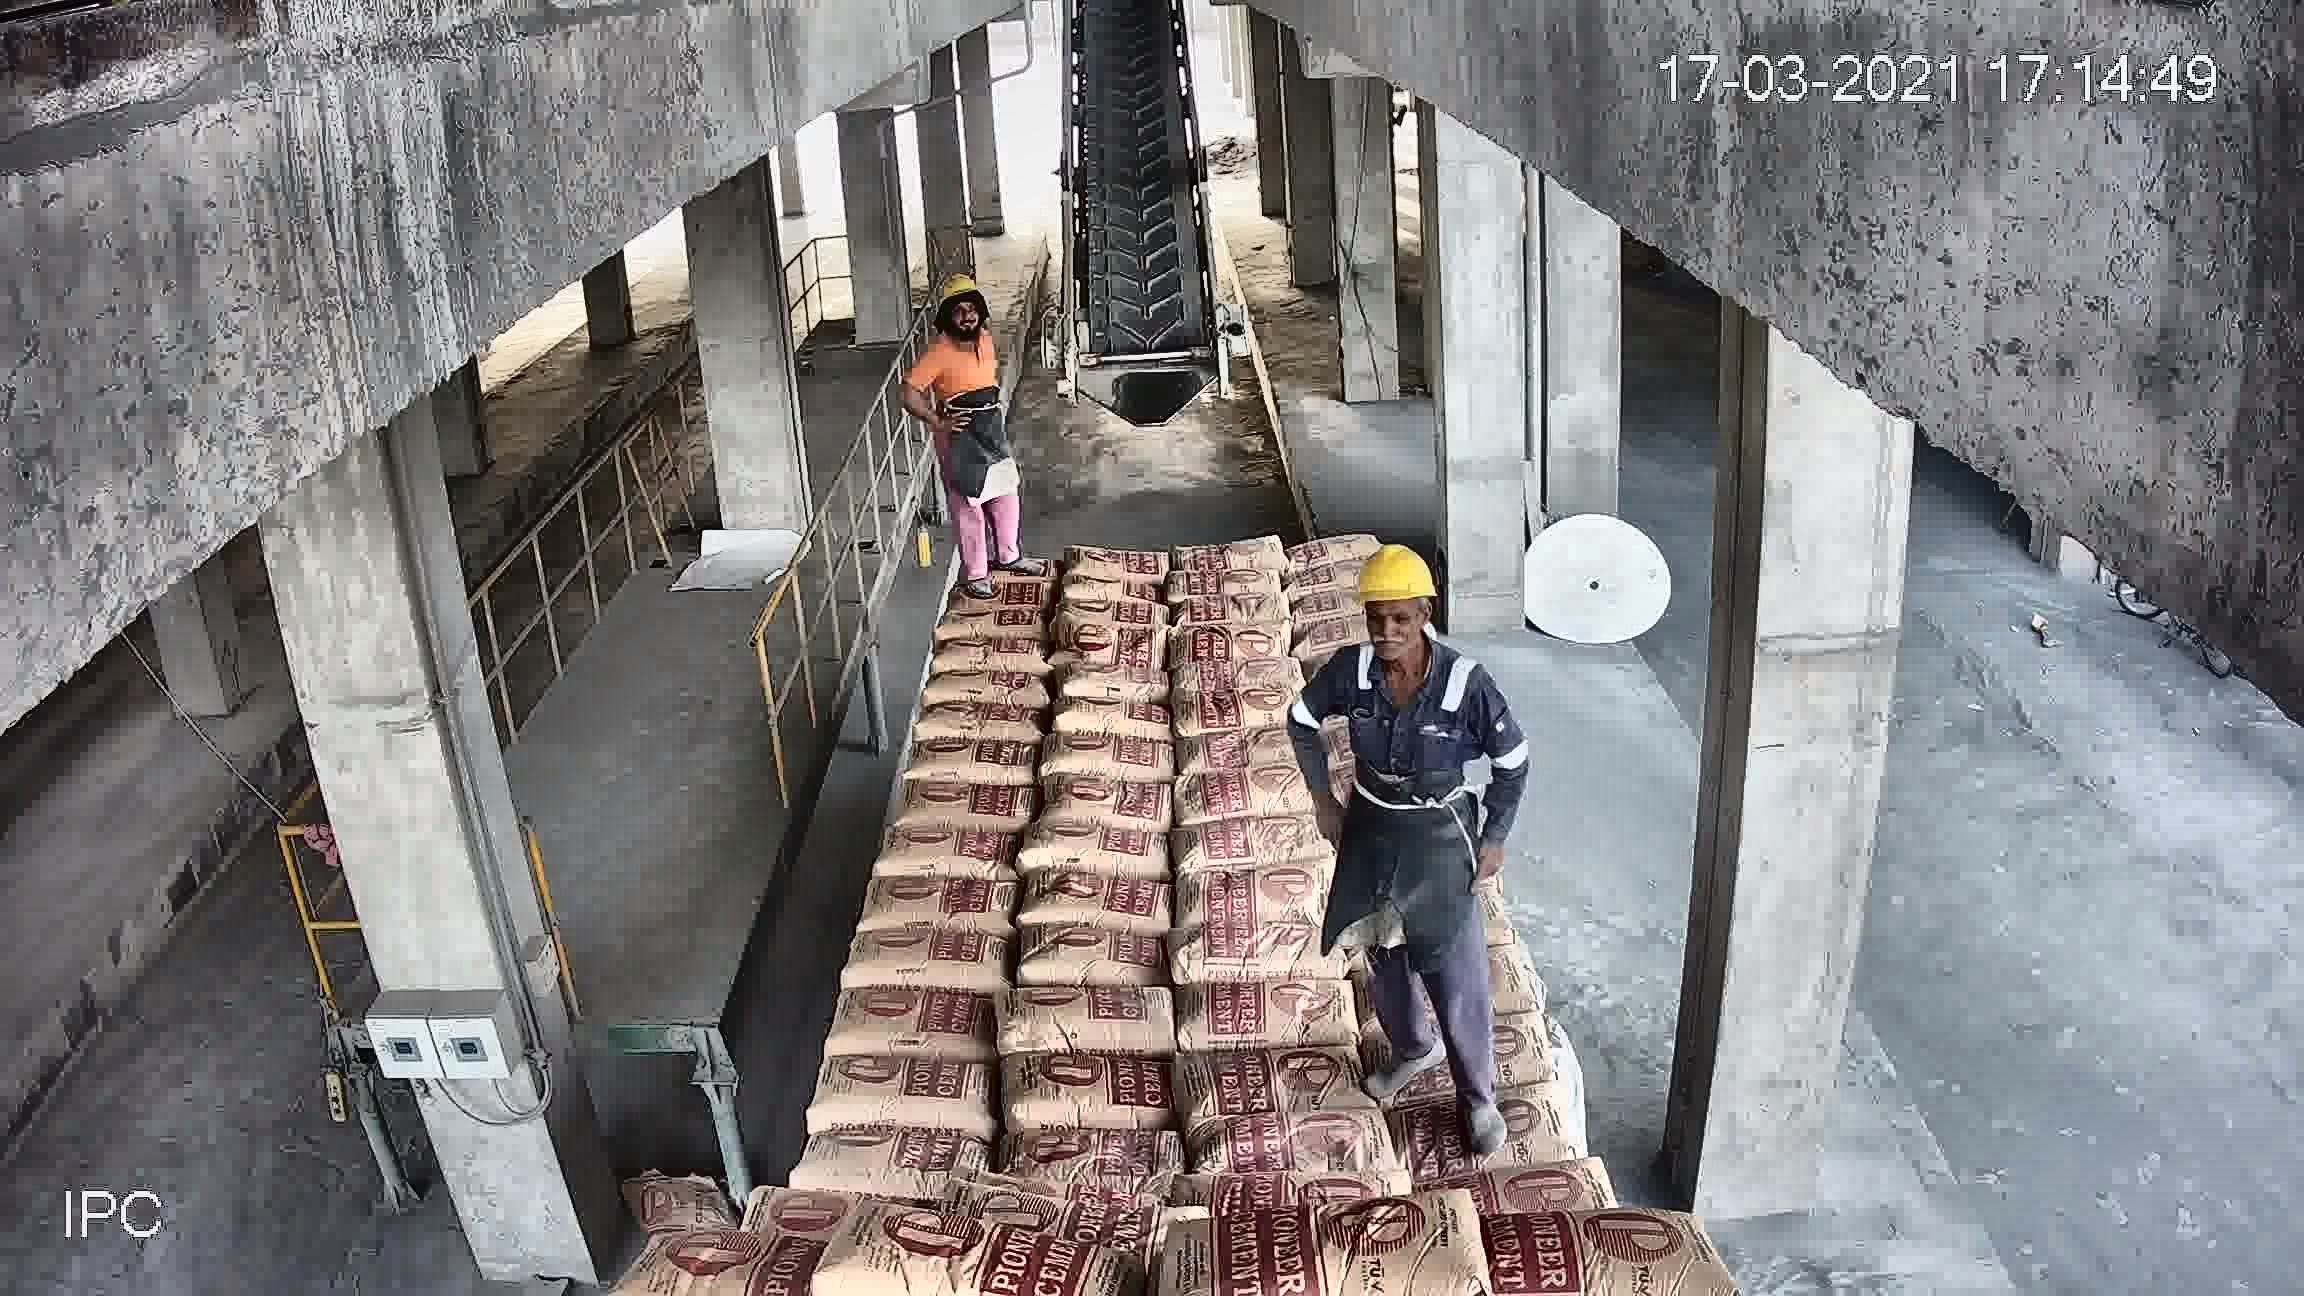bag_h: (796, 1215, 1127, 1296), (1204, 1207, 1502, 1294), (1448, 1207, 1707, 1290), (1196, 1078, 1396, 1165), (1171, 975, 1374, 1054), (805, 1052, 1006, 1131), (1185, 1106, 1375, 1185), (639, 1226, 848, 1294), (1000, 986, 1187, 1062), (828, 980, 1005, 1059), (1011, 1051, 1184, 1128), (788, 1128, 1000, 1190), (855, 872, 1029, 946), (997, 1122, 1188, 1188), (1437, 1161, 1617, 1226), (837, 927, 1013, 994), (1168, 756, 1326, 828), (1429, 1109, 1589, 1179), (1173, 926, 1342, 991), (1021, 813, 1171, 886), (1177, 861, 1329, 930), (1013, 929, 1182, 991), (1024, 873, 1182, 932), (1177, 810, 1323, 873), (1043, 774, 1182, 836), (892, 782, 1041, 836), (873, 831, 1021, 883), (910, 698, 1059, 747), (907, 737, 1041, 791), (1166, 726, 1305, 775), (1168, 654, 1305, 703), (1063, 612, 1169, 674), (1166, 687, 1302, 734), (913, 663, 1049, 707), (1048, 741, 1176, 786), (1060, 657, 1176, 707), (1052, 698, 1166, 745), (927, 638, 1063, 676), (942, 568, 1054, 612), (1287, 516, 1396, 559), (1174, 620, 1287, 661), (935, 604, 1048, 644), (1166, 567, 1285, 603), (1171, 527, 1290, 563), (1171, 592, 1290, 627), (1059, 597, 1176, 631), (1070, 543, 1169, 582), (1054, 574, 1165, 608), (1279, 559, 1370, 593)
belt: (1055, 8, 1214, 366)
